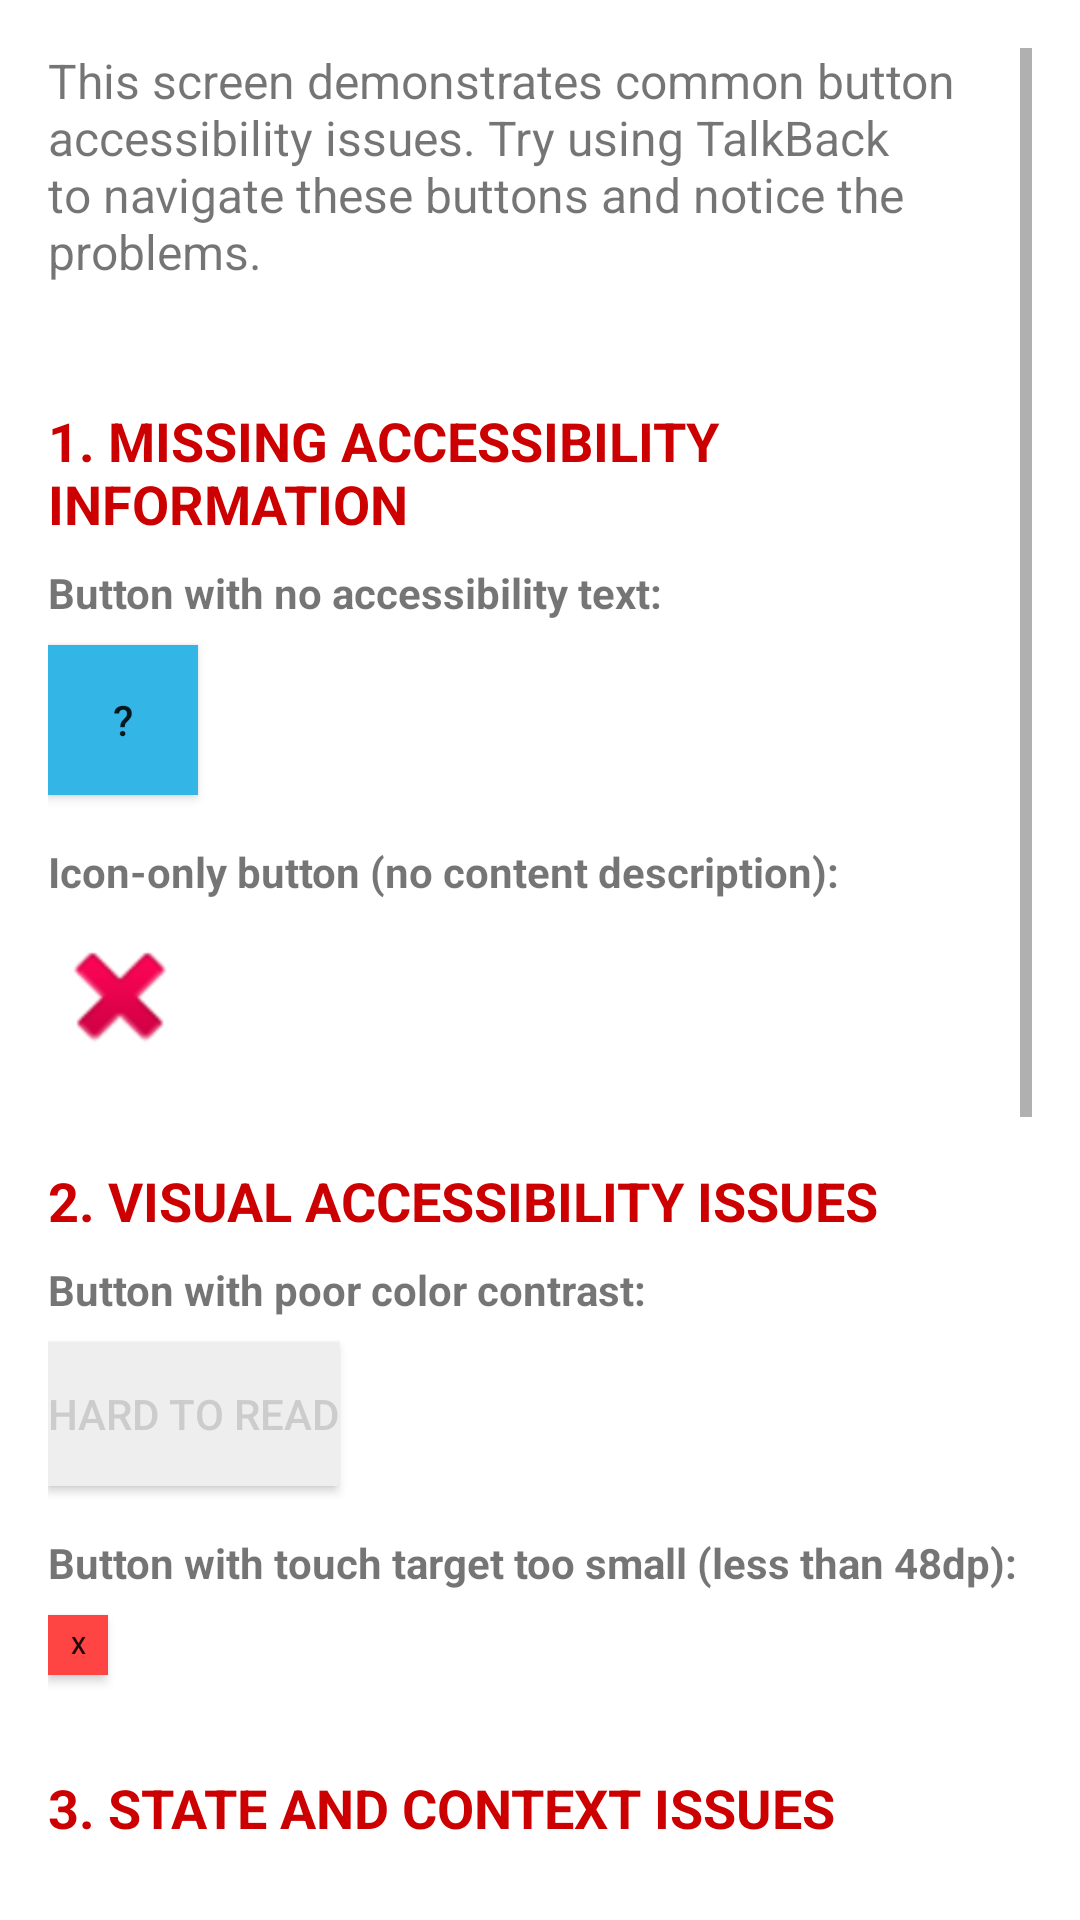

Icons on this 1080 x 1920 Android screen, each with the point to tap as (x,y):
delete: (120,996)
